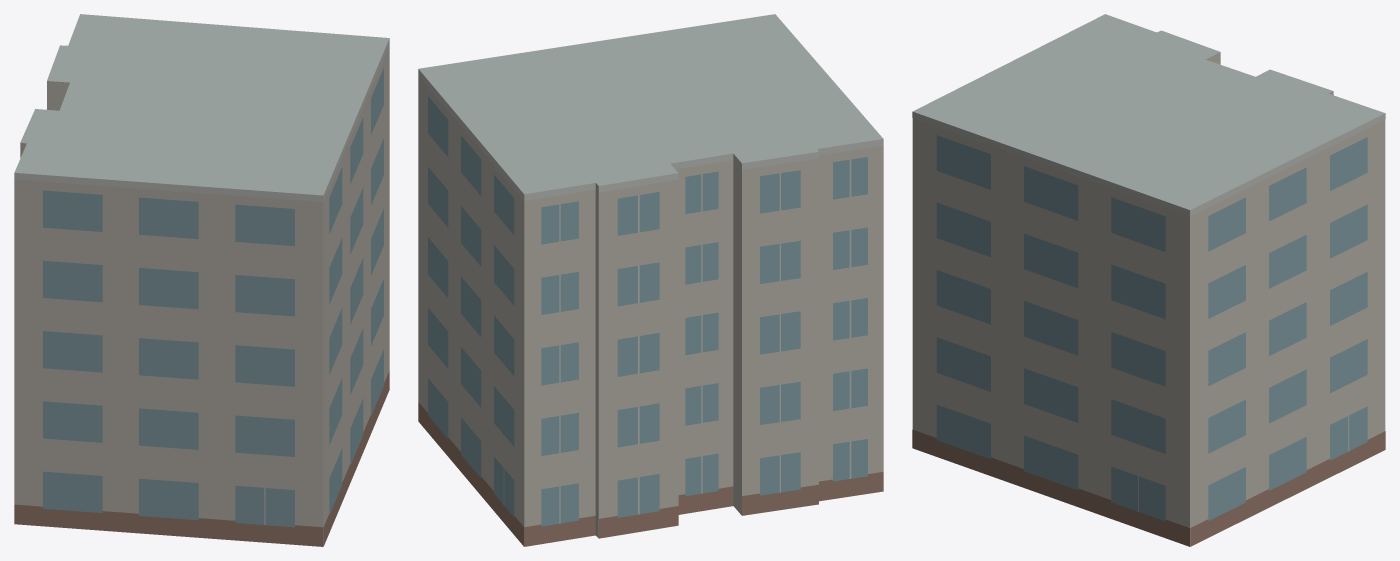
The model's file is survey-upis-32871161.glb.
3 views of the same model, side by side, from view 1: azimuth 30°, elevation 25°; view 2: azimuth 150°, elevation 25°; view 3: azimuth 270°, elevation 25° (orthographic). The views are drawn at different scales.
Visible parts, largest first — view 1: survey-upis-32871161.tmp; view 2: survey-upis-32871161.tmp; view 3: survey-upis-32871161.tmp.
Part boxes in pixels (x1,y1,x2,y2): survey-upis-32871161.tmp: (14,14,389,546); survey-upis-32871161.tmp: (418,14,883,546); survey-upis-32871161.tmp: (912,14,1385,546).
Bounding box in the file's own units: 16.25 × 13 × 16.56.
